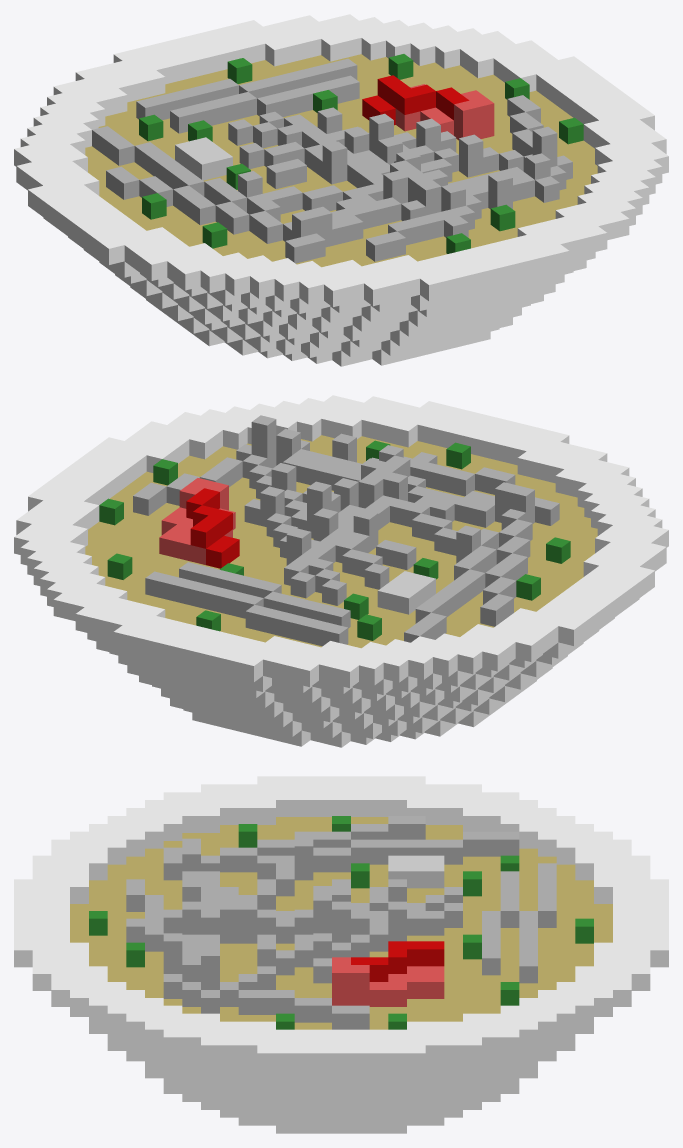
The model's file is HuTieuBowl.obj.
3 renders of one model, top to bottom at view 1: azimuth 30°, elevation 25°; view 2: azimuth 150°, elevation 25°; view 3: azimuth 270°, elevation 25°, orthographic. The views are drawn at different scales.
Size of the model in its own units: 3.5 by 1 by 3.5.
Materials: 1 (1 with a texture image).
